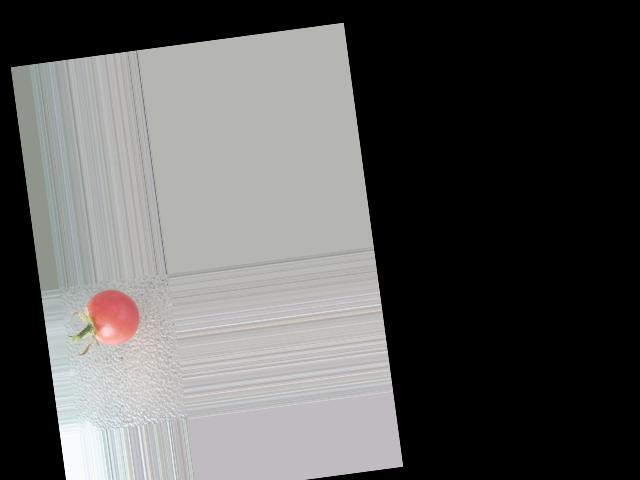tomato: (85, 286, 143, 349)
